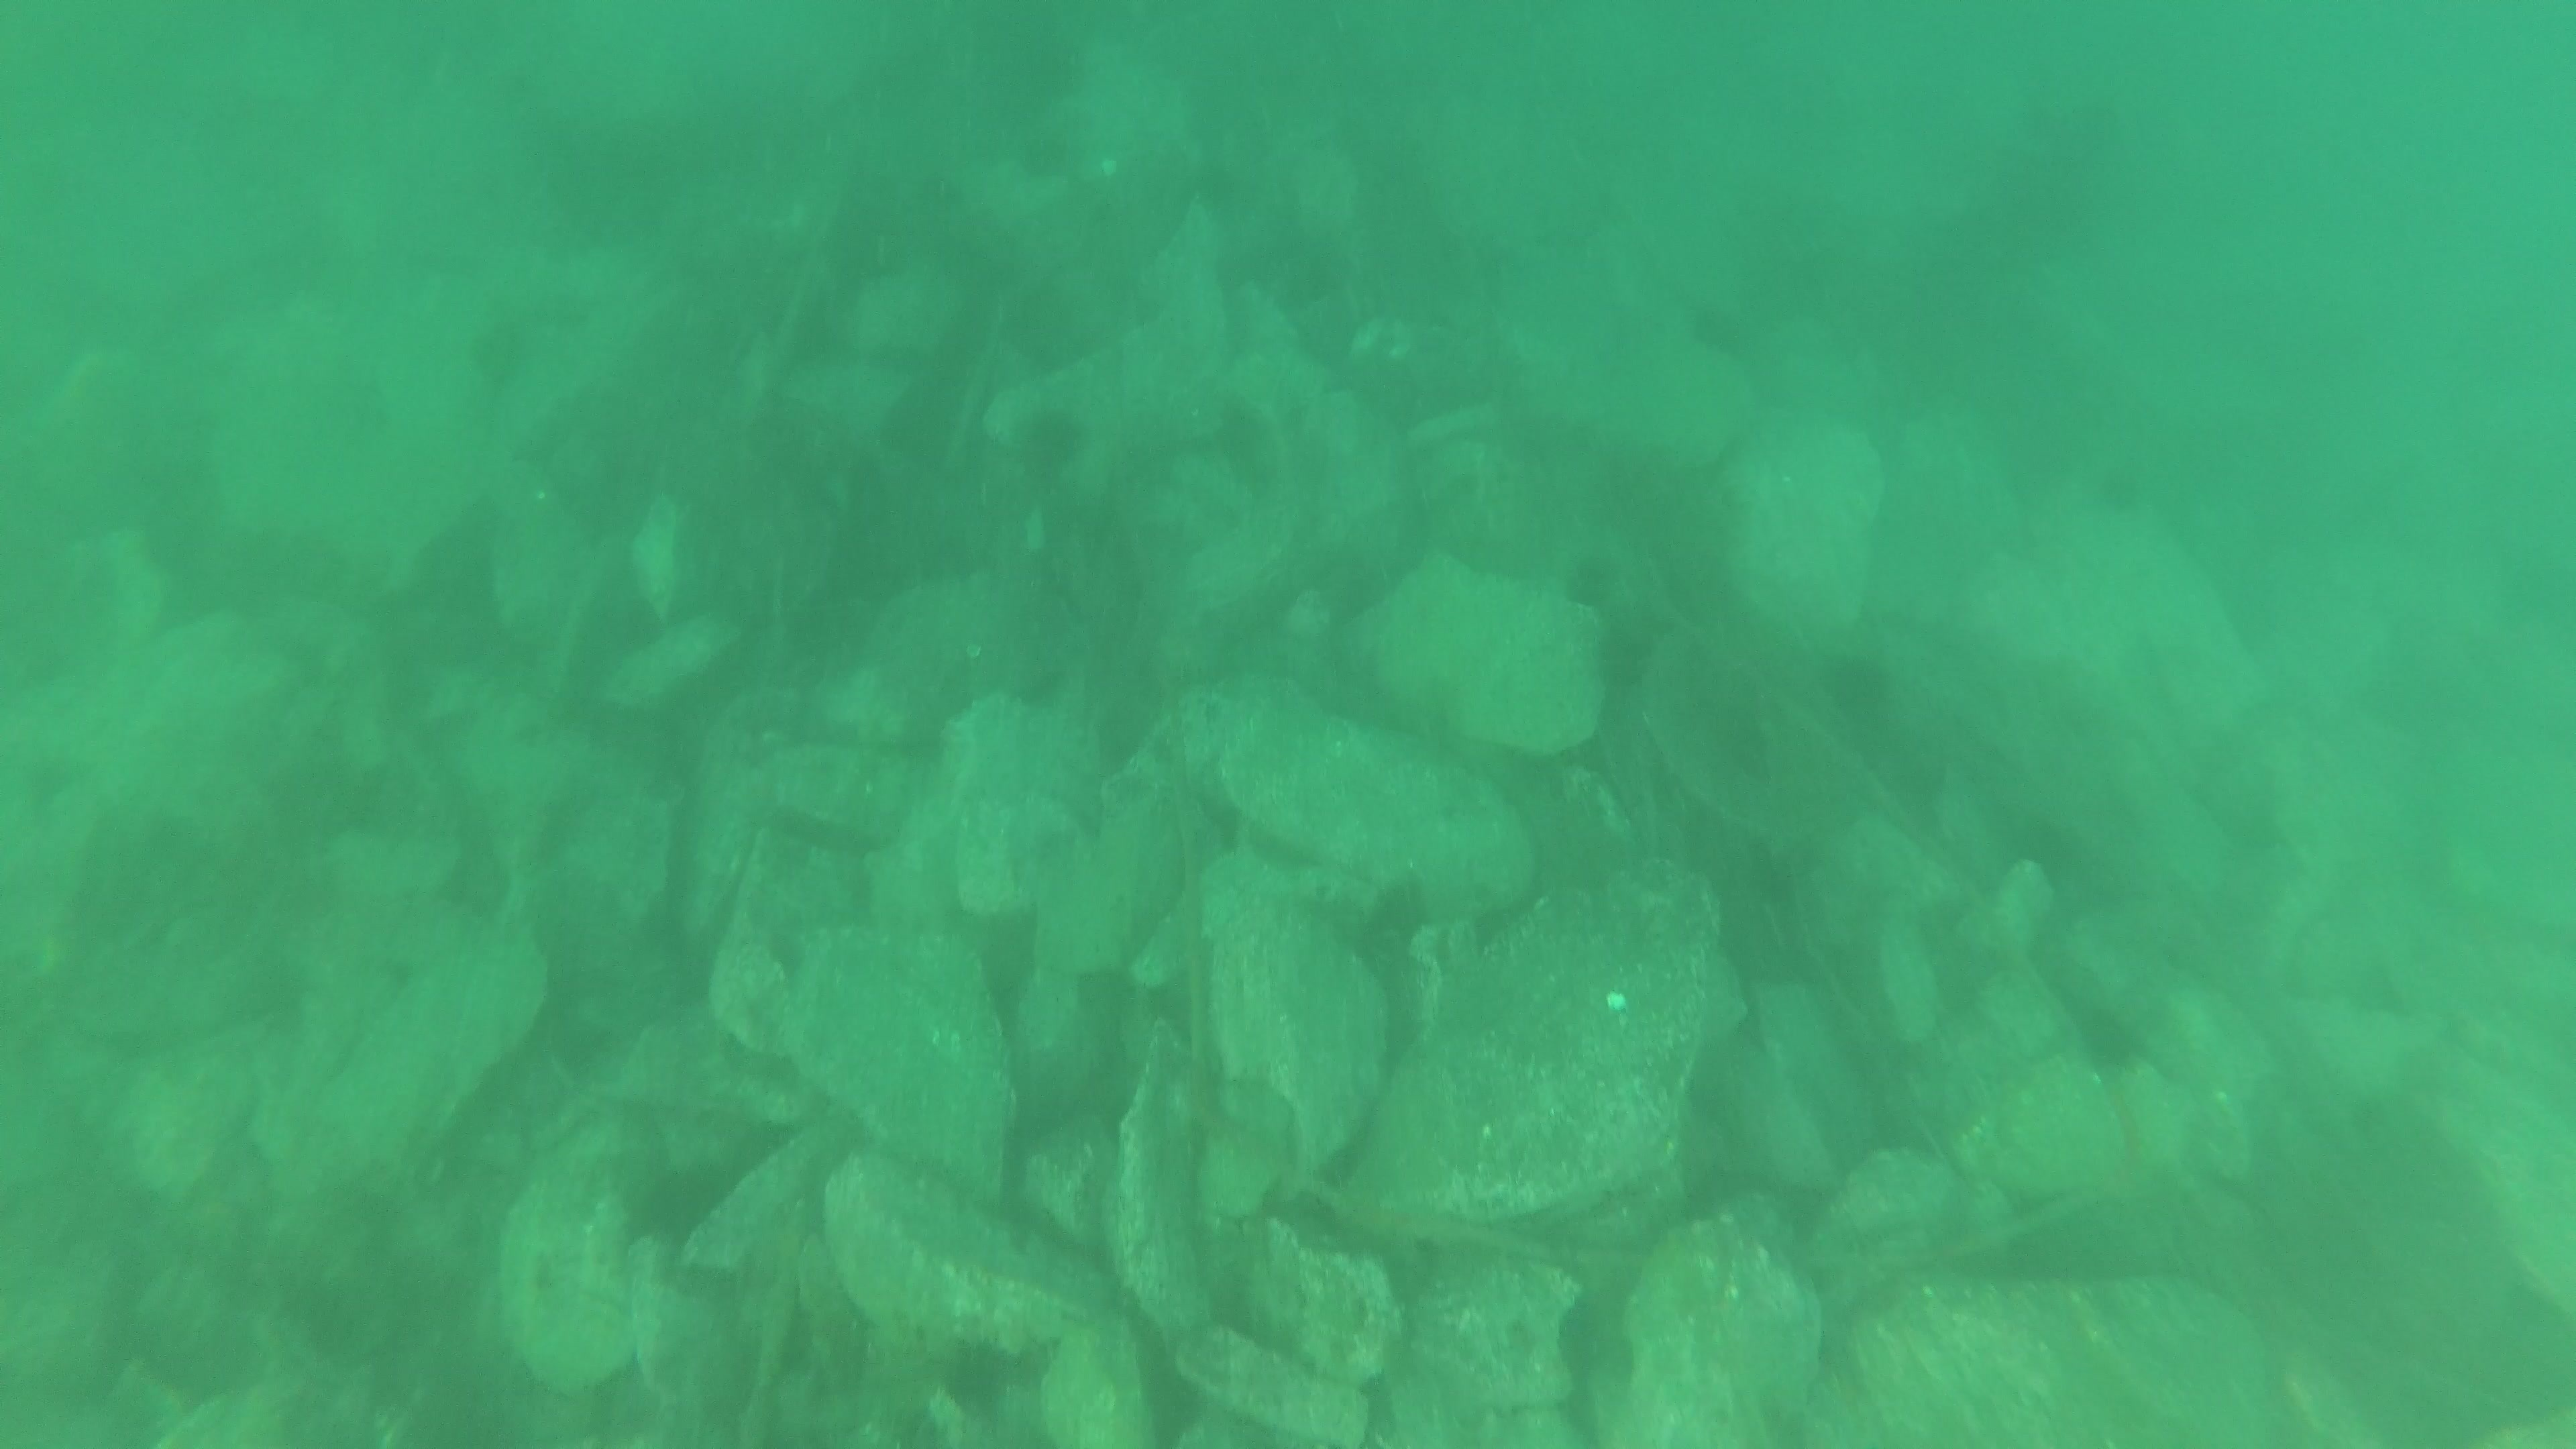echinus: (1813, 642, 1904, 736), (1008, 398, 1093, 488), (2066, 996, 2153, 1081), (1557, 547, 1626, 616)
